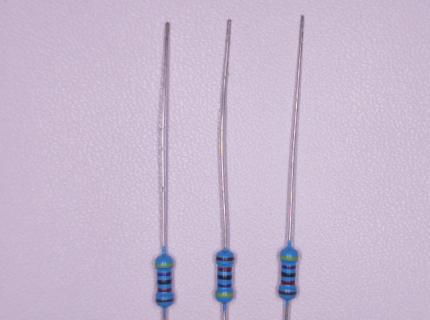Black band: (157, 279, 171, 284), (218, 275, 231, 280), (282, 272, 295, 277)
Brown band: (217, 257, 234, 261), (279, 291, 296, 295), (157, 299, 173, 302)
Red band: (282, 280, 295, 285), (158, 288, 172, 292), (218, 268, 231, 272)
Violet band: (157, 272, 171, 276), (218, 284, 232, 288), (282, 265, 296, 269)
Yellow band: (155, 263, 173, 267), (215, 293, 233, 297), (280, 256, 298, 260)
